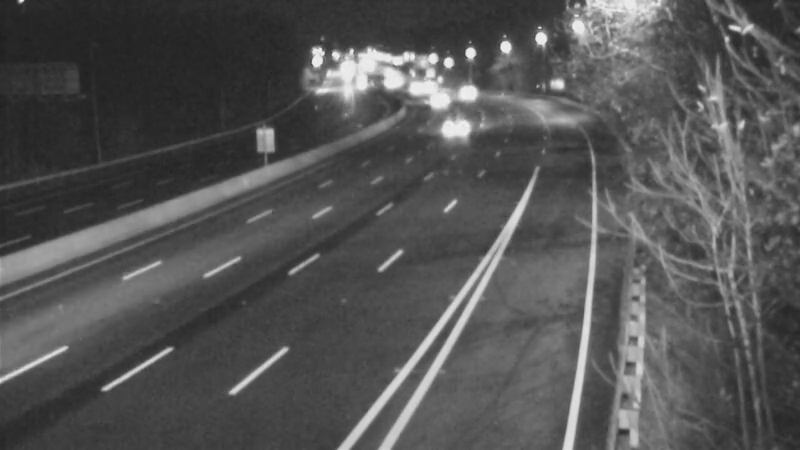vehicle: (388, 62, 438, 112), (442, 68, 492, 118), (405, 74, 455, 124), (435, 105, 485, 155)
